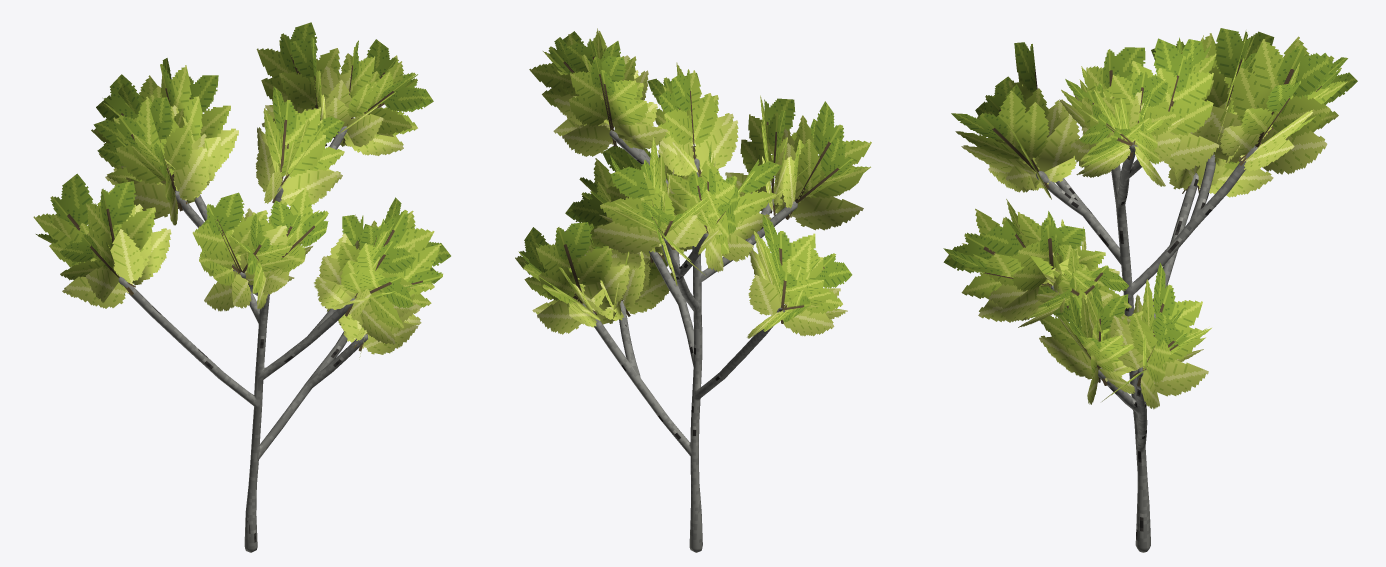
The model's file is environment_elmsapling2_v12.fbx.
3 renders of one model, left to right at view 1: azimuth 30°, elevation 25°; view 2: azimuth 150°, elevation 25°; view 3: azimuth 270°, elevation 25°, orthographic. The views are drawn at different scales.
Visible parts, largest first — view 1: environment_elmsapling2_v12_lod0; view 2: environment_elmsapling2_v12_lod0; view 3: environment_elmsapling2_v12_lod0.
Part boxes in pixels (x1,y1,x2,y2): environment_elmsapling2_v12_lod0: [33, 22, 450, 552]; environment_elmsapling2_v12_lod0: [515, 28, 871, 552]; environment_elmsapling2_v12_lod0: [943, 28, 1357, 552].
Size of what is drawn, in the model's own units: 147 by 186 by 132.
2 materials, 2 textured.
